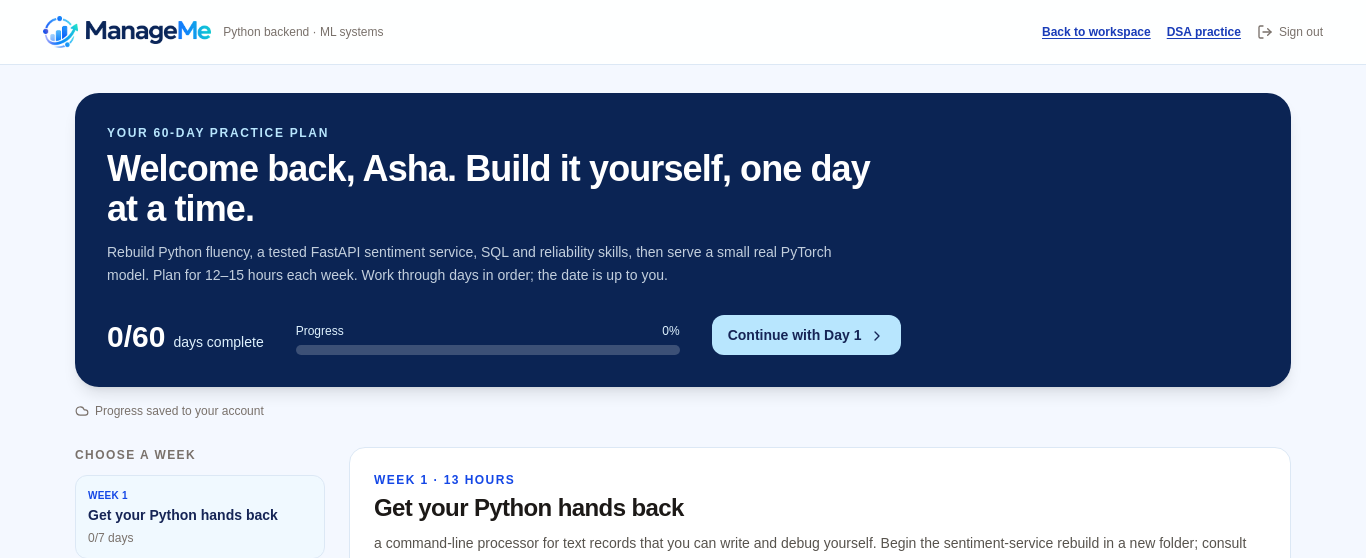
workspace › keeps the 60-day roadmap for people who have one, without forcing it on anyone else
The image size is (1366, 558).
Expected: the text "Choose a week" is shown, [75,448,196,462]
Click the button "Back to workspace" at [1096, 32], box [1042,24,1151,40]
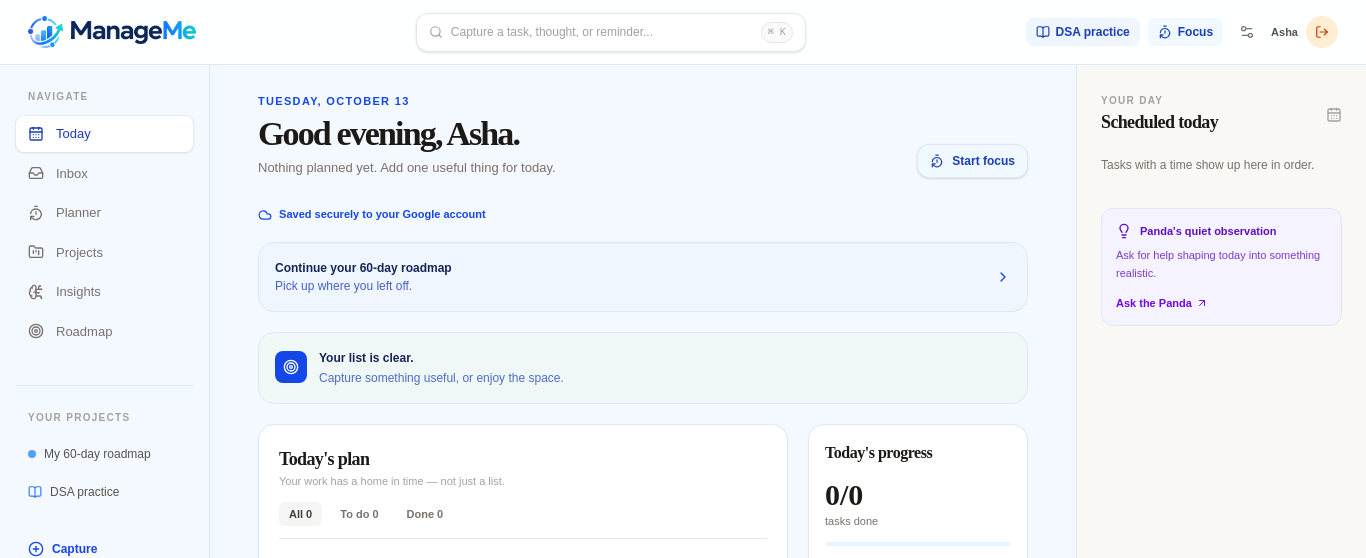
Now the text "Continue your 60-day roadmap" is shown, box [275,259,452,277]
